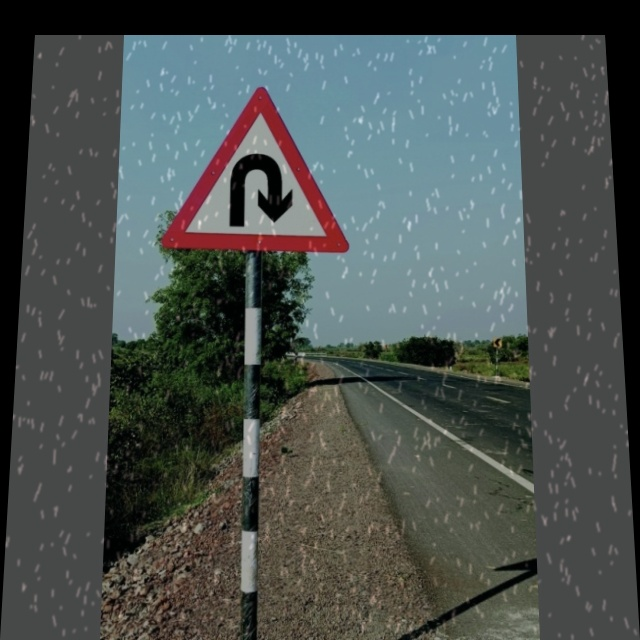Right_Hair_Pin_Bend: (174, 85, 346, 252)
